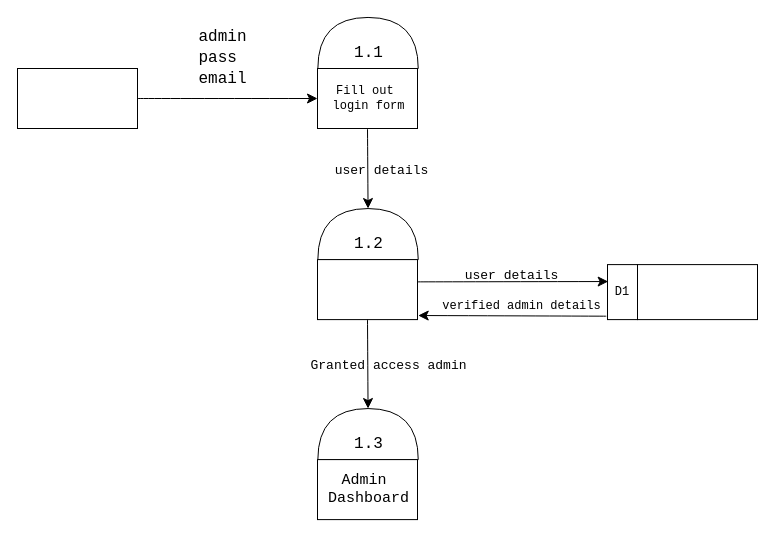
Image size: 775x538. Some labels were removed from this diagram. The shapes that lost their labels are listed below. From the top down, each one's centre as x and y in pixels, then its label:
At point 77,98: "Library Admin".
At point 367,289: "Verify User".
At point 697,292: "Admin".
